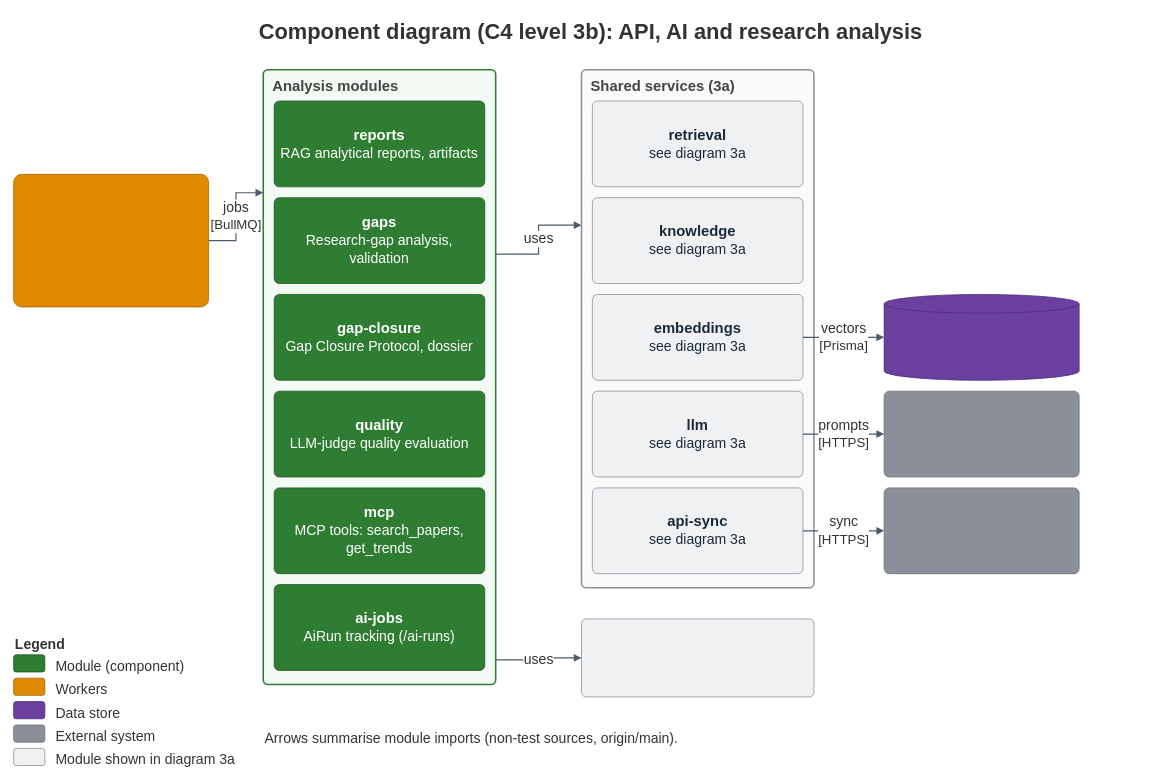
This 1174x782 diagram has some shape labels left out. The centre of each missing label's shape, as x and y in pixels:
"BullMQ workers [report, gaps, ai-jobs] run the long jobs from Redis queues" belongs at point (111, 240).
"LLM providers [HTTPS] Gemini; optional Ollama" belongs at point (981, 433).
"OpenAlex [HTTPS] gap evidence" belongs at point (981, 530).
"Other contexts [credits, projects, notifications] charge, refund, notify" belongs at point (697, 657).
"PostgreSQL + pgvector [Prisma] reports, gaps" belongs at point (981, 337).
